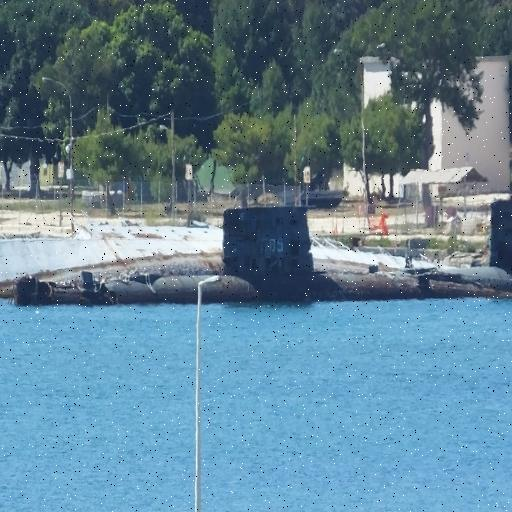submarine: (16, 180, 512, 305), (414, 196, 512, 292)
